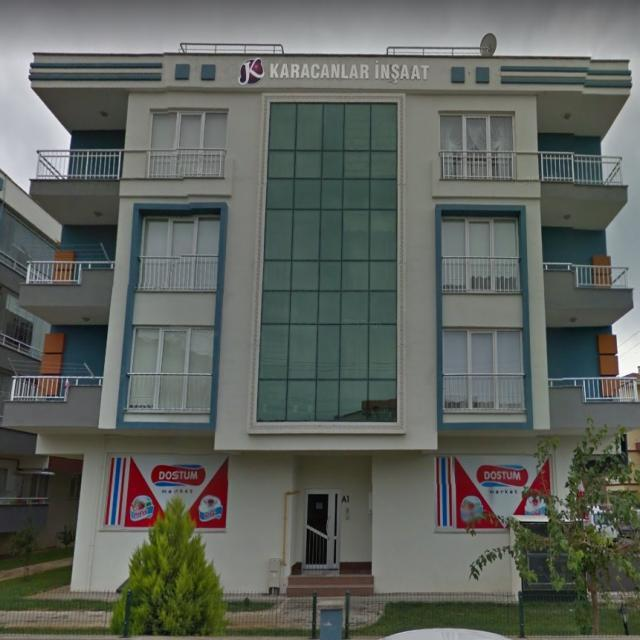Building: (2, 52, 639, 596)
